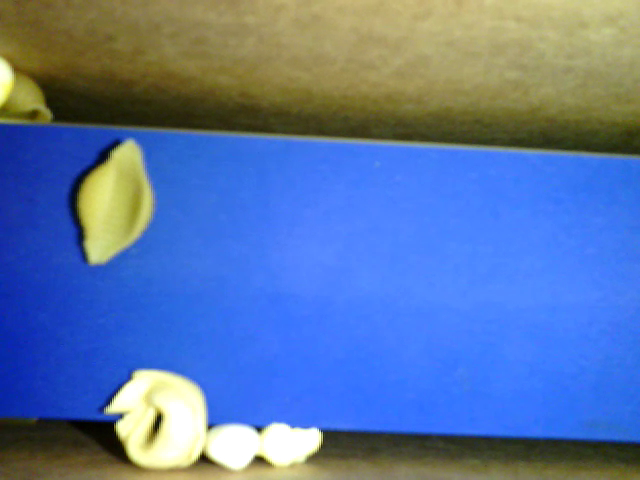shell: (75, 135, 155, 268), (3, 74, 58, 127)
tortellini: (87, 366, 215, 465)
